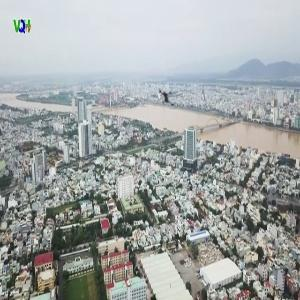drone: (150, 79, 188, 117)
